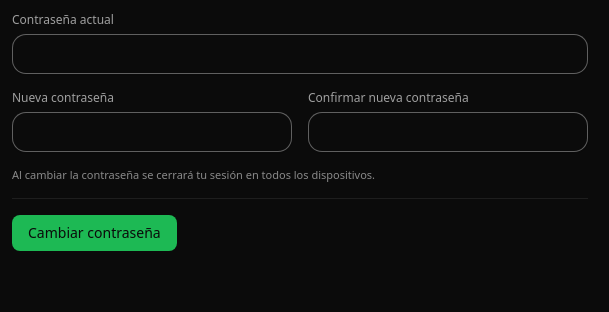
Test: SecurityForm › shows validation error when submitting empty form
Click the button "Cambiar contraseña" at (94, 233), box x1=12 y1=215 x2=177 y2=251
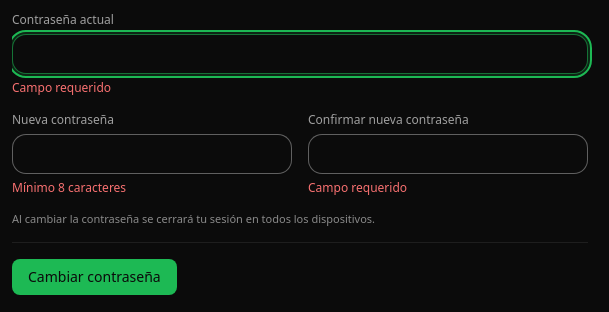
Expected: the text "Campo requerido" is shown 2 times, x1=12 y1=79 x2=111 y2=96; x1=308 y1=179 x2=407 y2=196
